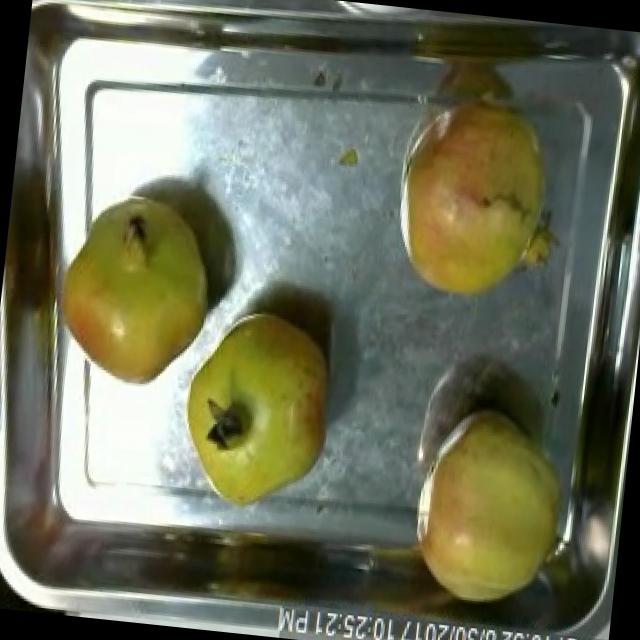fruit: (374, 66, 578, 324), (39, 171, 230, 405), (166, 298, 350, 526), (395, 392, 582, 616)
